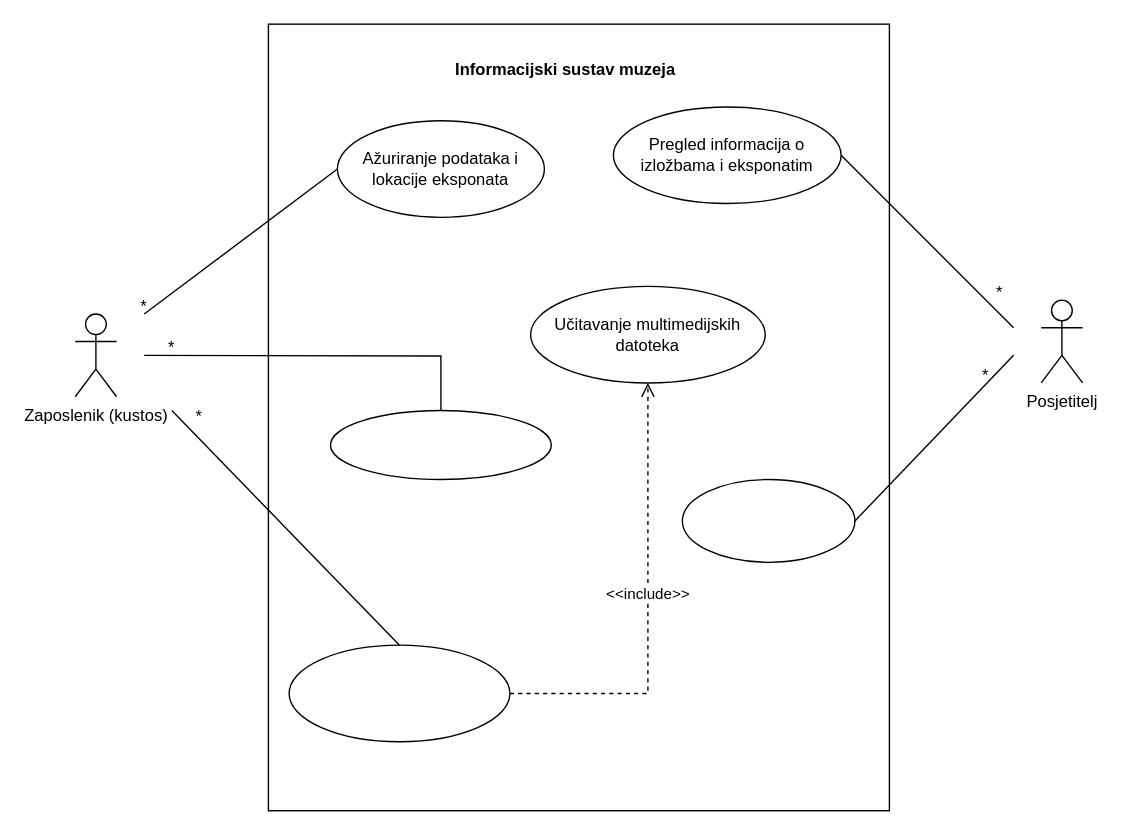
Image size: 1121x835. Some labels were removed from this diagram. The centre of each missing label's shape, as x and y in pixels:
Generiranje službenog reversa: the point at 440,444
Kreiranje novog kartona eksponata: the point at 399,693
Kupnja digitalne ulaznice: the point at 768,520
